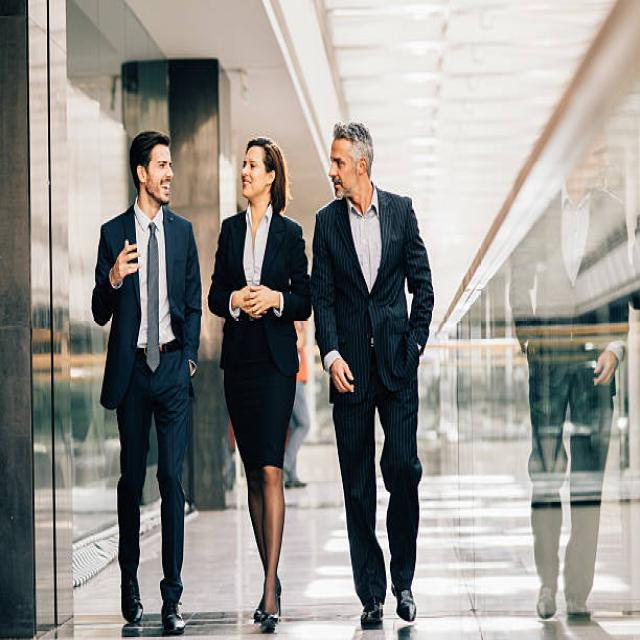Person: (310, 120, 434, 628), (90, 130, 202, 634), (208, 138, 312, 633)
